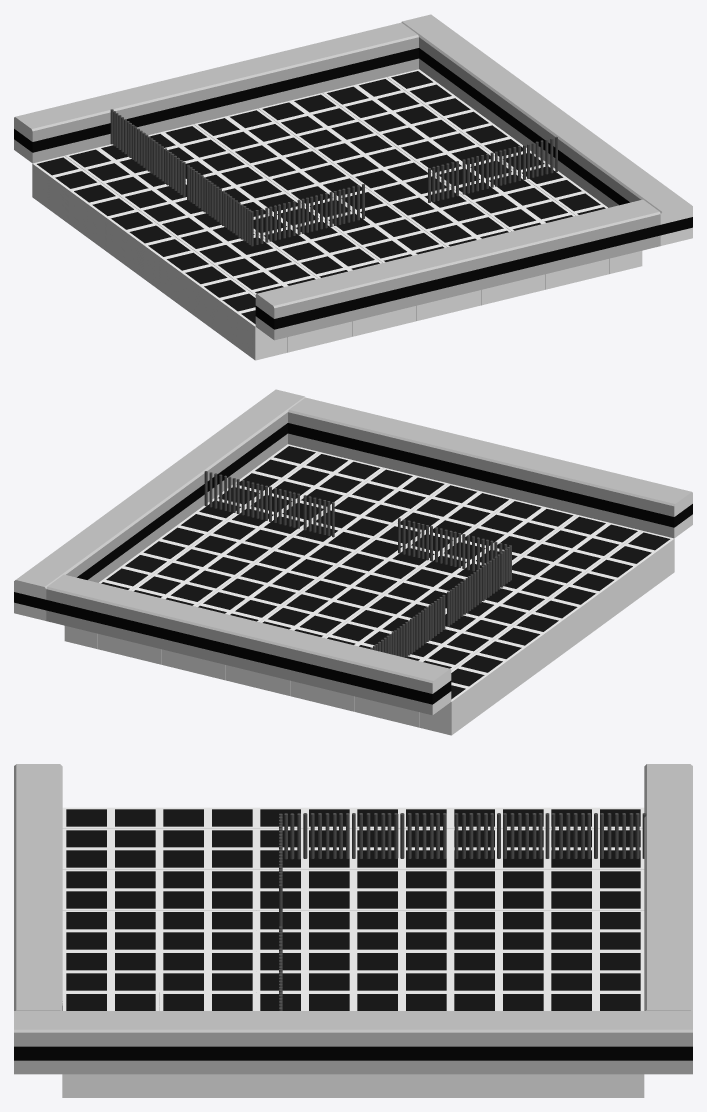
The model's file is prisonMedium.fbx.
3 renders of one model, top to bottom at view 1: azimuth 30°, elevation 25°; view 2: azimuth 150°, elevation 25°; view 3: azimuth 270°, elevation 25°, orthographic. The views are drawn at different scales.
Parts seen in each view (by area): view 1: Cube.162, Cube.014, Cube.004, Cube.170, Cube.003, Cube.005, Cube.009, Cube.012, Cube.013, Cube.171, Cube.172, Cube.173 (+137 smaller); view 2: Cube.014, Cube.162, Cube.004, Cube.006, Cube.166, Cube.172, Cube, Cube.001, Cube.005, Cube.008, Cube.158, Cube.161 (+138 smaller); view 3: Cube.007, Cube.174, Cube.177, Cube.178, Cube.181, Cube.182, Cube.186, Cube.011, Cube.175, Cube.176, Cube.179, Cube.180 (+166 smaller).
Boxes of the visible parts, left/top/right/bottom form: Cube.162: left=255, top=286, right=306, bottom=340; Cube.014: left=14, top=109, right=64, bottom=163; Cube.004: left=337, top=30, right=386, bottom=84; Cube.170: left=547, top=215, right=596, bottom=269; Cube.003: left=208, top=62, right=257, bottom=116; Cube.005: left=273, top=46, right=322, bottom=100; Cube.009: left=418, top=246, right=467, bottom=300; Cube.012: left=240, top=54, right=290, bottom=108; Cube.013: left=47, top=101, right=96, bottom=155; Cube.171: left=515, top=223, right=564, bottom=277; Cube.172: left=579, top=207, right=628, bottom=261; Cube.173: left=611, top=199, right=660, bottom=253; Cube.014: left=400, top=661, right=451, bottom=715; Cube.162: left=642, top=484, right=692, bottom=538; Cube.004: left=78, top=582, right=127, bottom=636; Cube.006: left=110, top=590, right=159, bottom=644; Cube.166: left=416, top=429, right=466, bottom=483; Cube.172: left=320, top=405, right=369, bottom=459; Cube: left=46, top=574, right=95, bottom=628; Cube.001: left=239, top=621, right=288, bottom=675; Cube.005: left=142, top=598, right=191, bottom=652; Cube.008: left=449, top=437, right=498, bottom=491; Cube.158: left=336, top=645, right=385, bottom=699; Cube.161: left=577, top=468, right=627, bottom=522; Cube.007: left=450, top=1011, right=498, bottom=1074; Cube.174: left=62, top=1011, right=110, bottom=1074; Cube.177: left=159, top=1011, right=207, bottom=1074; Cube.178: left=353, top=1011, right=401, bottom=1074; Cube.181: left=256, top=1011, right=304, bottom=1074; Cube.182: left=547, top=1011, right=595, bottom=1074; Cube.186: left=644, top=1011, right=692, bottom=1074; Cube.011: left=596, top=1011, right=644, bottom=1074; Cube.175: left=111, top=1011, right=159, bottom=1074; Cube.176: left=208, top=1011, right=256, bottom=1074; Cube.179: left=402, top=1011, right=450, bottom=1074; Cube.180: left=305, top=1011, right=353, bottom=1074.
Size of the model in its own units: 2602 by 403 by 2800.
